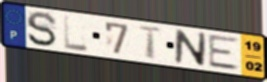7: (103, 21, 130, 55)
E: (207, 34, 242, 72)
L: (62, 14, 90, 53)
N: (173, 28, 208, 68)
S: (25, 10, 59, 48)
T: (137, 24, 165, 61)
